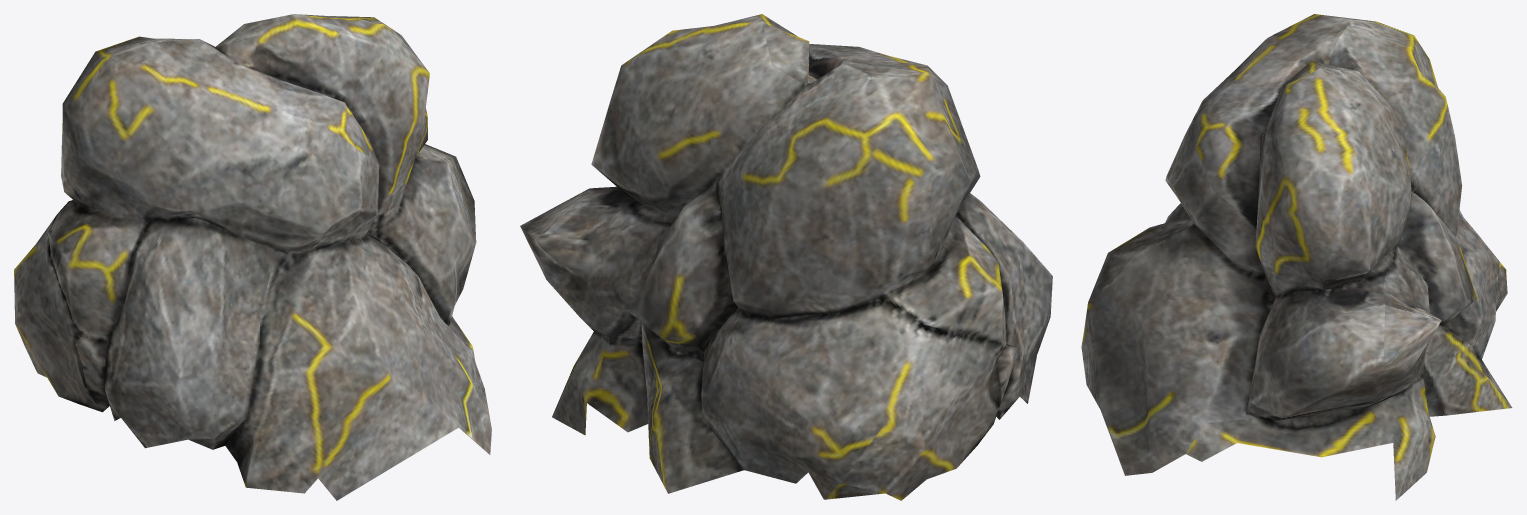
The model's file is mine_metal_aegean_small.glb.
The picture shows the model from 3 angles, left to right: view 1: azimuth 30°, elevation 25°; view 2: azimuth 150°, elevation 25°; view 3: azimuth 270°, elevation 25°; orthographic projection. The views are drawn at different scales.
Visible parts, largest first — view 1: mine_metal_aegean_small_part0; view 2: mine_metal_aegean_small_part0; view 3: mine_metal_aegean_small_part0.
Part boxes in pixels (x1,y1,x2,y2): mine_metal_aegean_small_part0: [14, 14, 491, 500]; mine_metal_aegean_small_part0: [520, 14, 1052, 500]; mine_metal_aegean_small_part0: [1081, 14, 1512, 500].
Size of the model in its own units: 2.15 by 1.89 by 2.02.
1 material, 1 textured.
